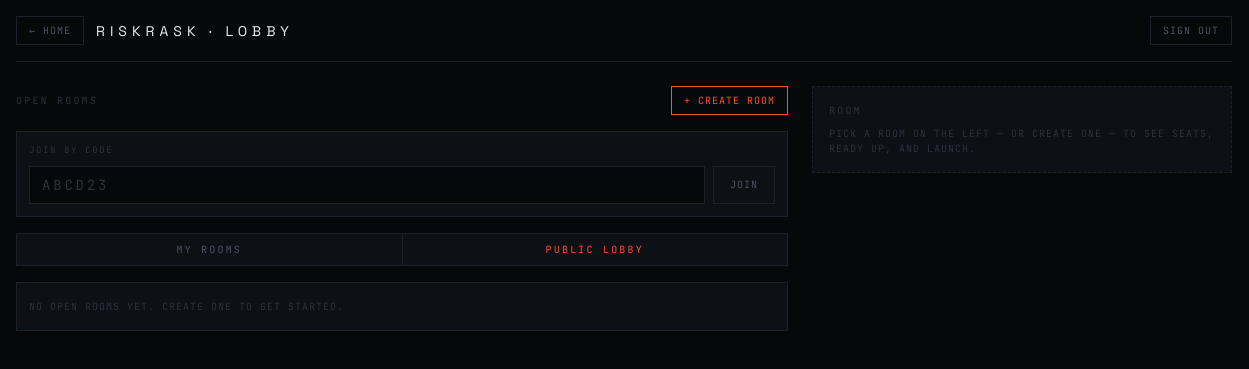
Test: Lobby › rejects a malformed room code in the join form
Type "ABC" into the field with test id "join-code-input".
click(367, 184); type("ABC")  # box [29,166,705,204]
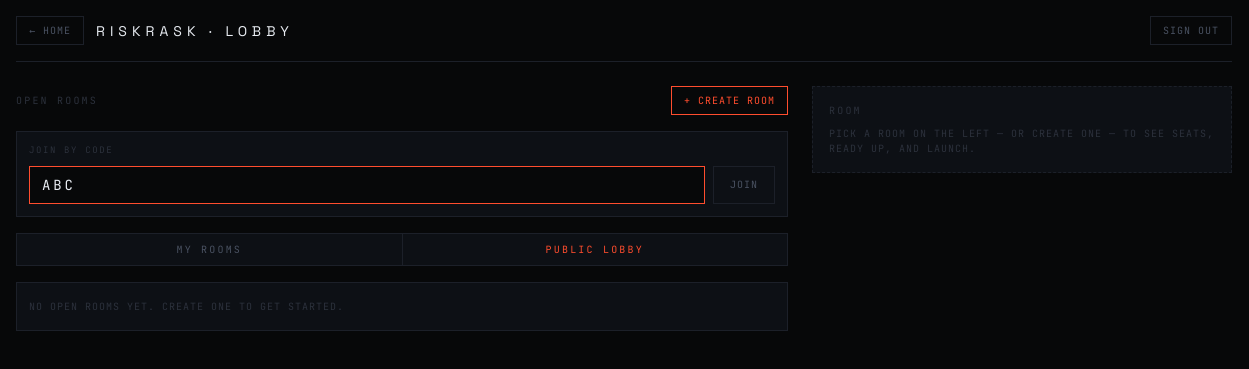
Click the button with test id "join-submit".
click(744, 184)  # box [713,166,775,204]
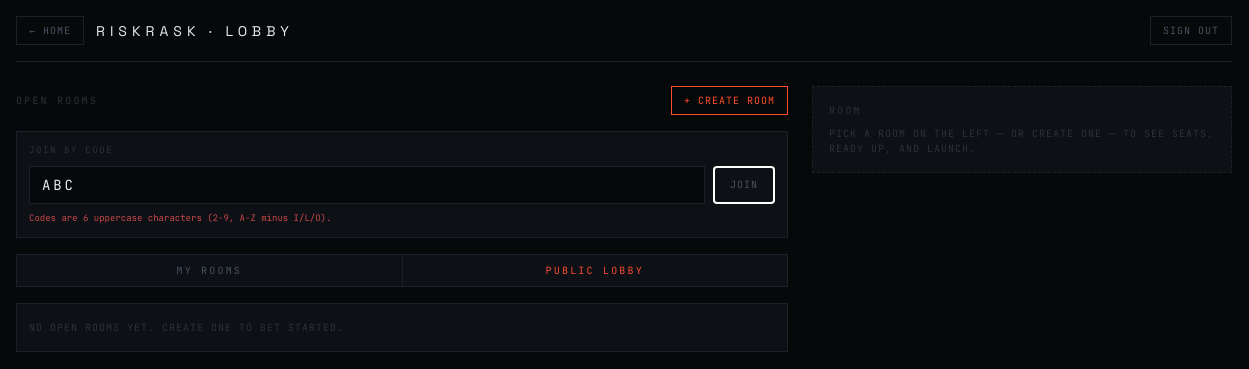
Result: the text "Codes are 6 uppercase characters (2-9, A-Z minus I/L/O)." is shown at [29,212,331,224]
